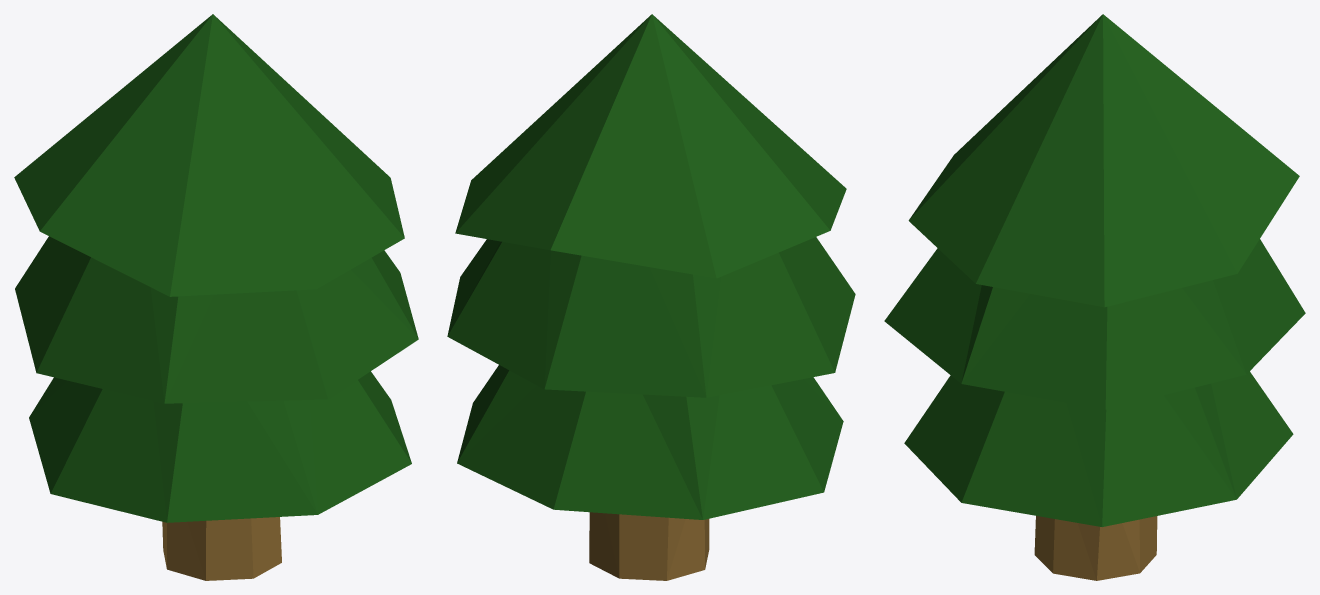
The model's file is DecoTreePine.dae.
3 views of the same model, side by side, from view 1: azimuth 30°, elevation 25°; view 2: azimuth 150°, elevation 25°; view 3: azimuth 270°, elevation 25° (orthographic).
Parts seen in each view (by area): view 1: DecoTreePine.001; view 2: DecoTreePine.001; view 3: DecoTreePine.001.
Boxes of the visible parts, left/top/right/bottom form: DecoTreePine.001: left=14, top=14, right=418, bottom=580; DecoTreePine.001: left=447, top=14, right=855, bottom=580; DecoTreePine.001: left=884, top=14, right=1305, bottom=580.
Size of the model in its own units: 0.1754 by 0.175 by 0.2467.
